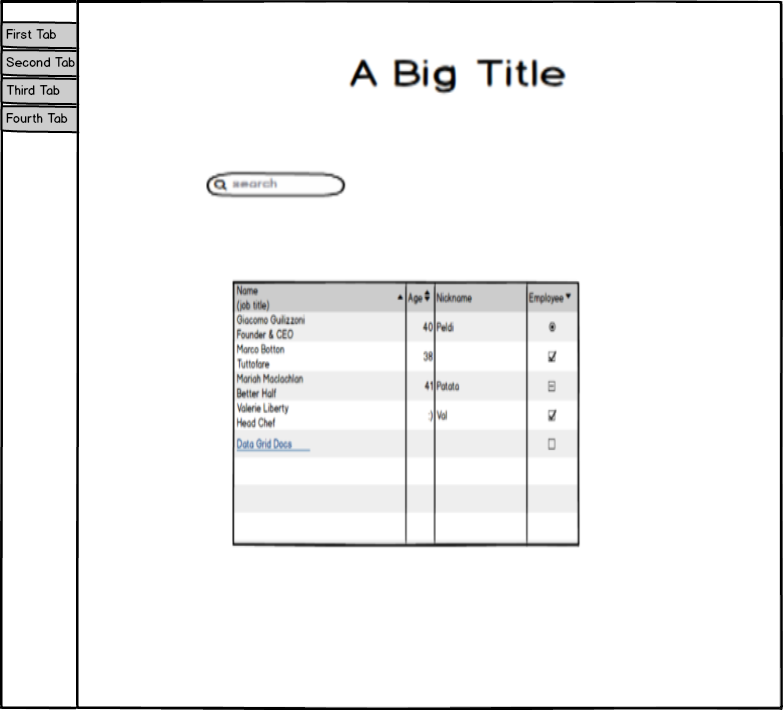h1: (341, 53, 575, 102)
search: (202, 169, 348, 201)
sidebar: (2, 14, 83, 140)
table: (226, 275, 585, 556)
